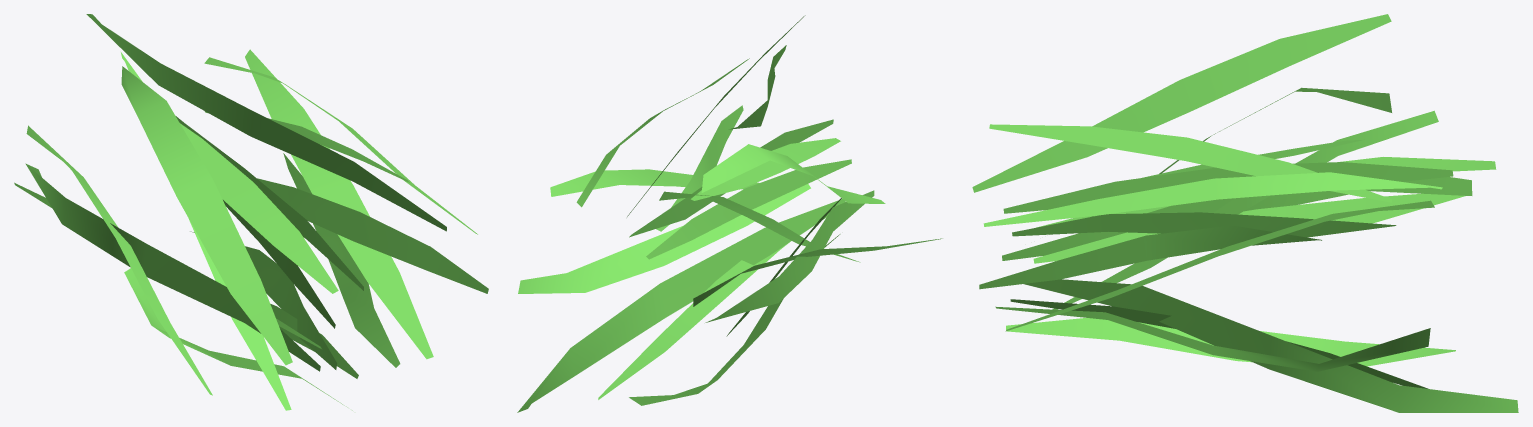
File: Grass2.fbx
The picture shows the model from 3 angles, left to right: view 1: azimuth 30°, elevation 25°; view 2: azimuth 150°, elevation 25°; view 3: azimuth 270°, elevation 25°; orthographic projection. The views are drawn at different scales.
Parts seen in each view (by area): view 1: grass2; view 2: grass2; view 3: grass2.
Part boxes in pixels (<box>): grass2: <box>14,14,488,410</box>; grass2: <box>517,15,942,412</box>; grass2: <box>972,14,1518,412</box>.
Size of the model in its own units: 161 by 182 by 277.
